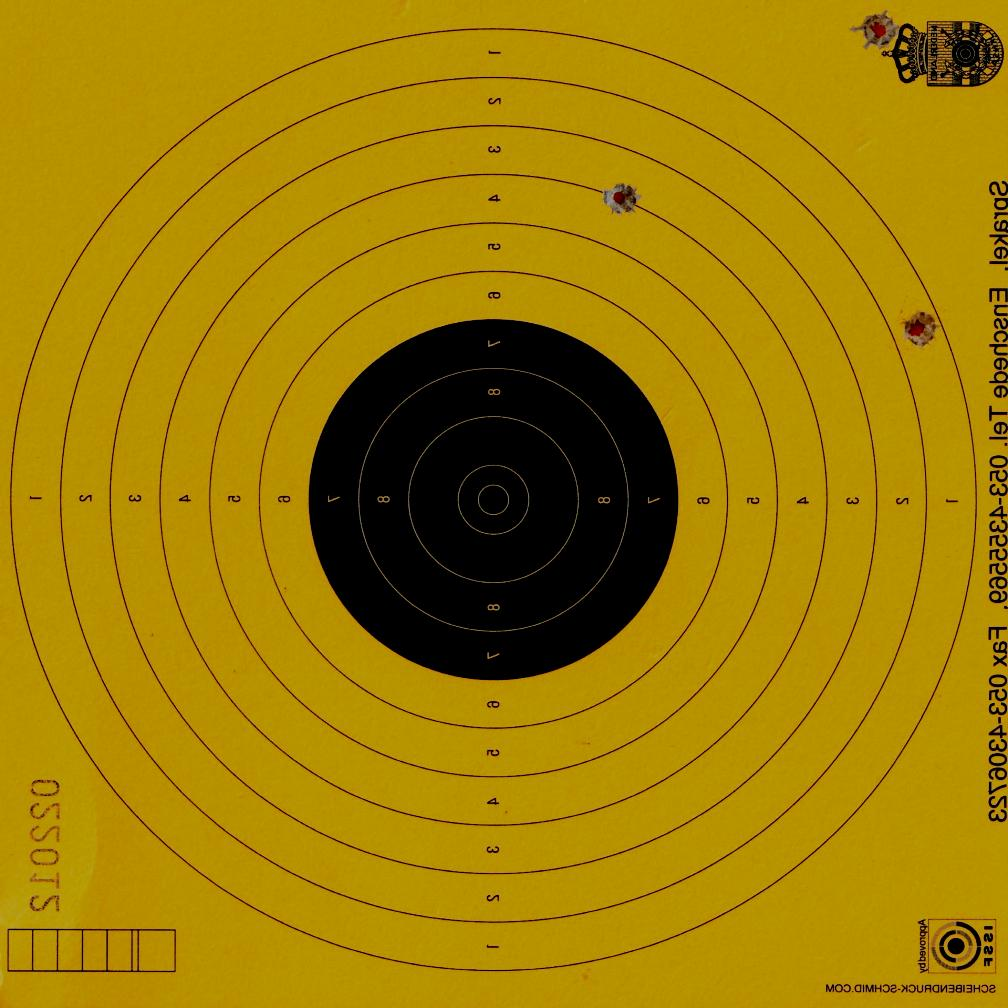0: (854, 10, 903, 51)
1: (899, 310, 942, 346)
4: (604, 182, 641, 218)
Target: (8, 22, 982, 974)
black_contour: (306, 319, 679, 682)
